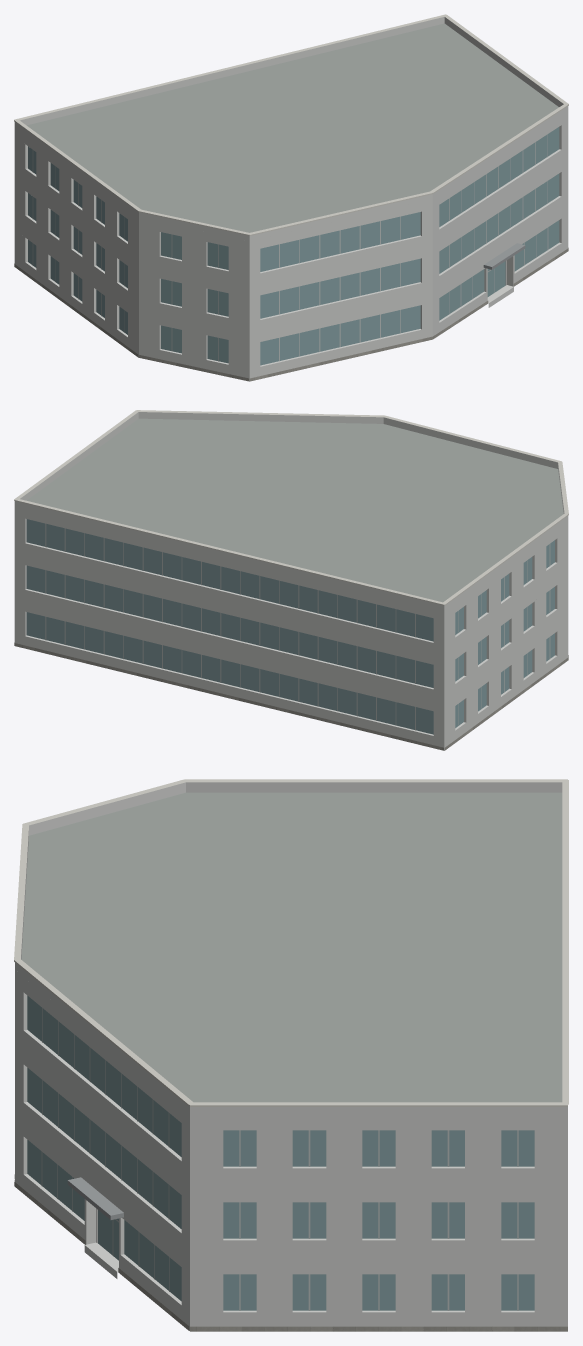
3 views of the same model, one above another, from view 1: azimuth 30°, elevation 25°; view 2: azimuth 150°, elevation 25°; view 3: azimuth 270°, elevation 25° (orthographic). The views are drawn at different scales.
Parts seen in each view (by area): view 1: e5__roof, e5__wall, e5__glass, e5__parapet, e5__trim, e5__frame, e5__base; view 2: e5__roof, e5__wall, e5__glass, e5__parapet, e5__trim, e5__frame, e5__base; view 3: e5__roof, e5__wall, e5__glass, e5__parapet, e5__trim, e5__base, e5__frame, e5__canopy.
Boxes of the visible parts, box(x1,y1,x2,y2) form: e5__roof: box(27, 23, 558, 381); e5__wall: box(14, 111, 568, 381); e5__glass: box(28, 127, 559, 365); e5__parapet: box(14, 17, 568, 241); e5__trim: box(14, 14, 568, 235); e5__frame: box(32, 134, 548, 361); e5__base: box(14, 248, 568, 381); e5__roof: box(27, 418, 563, 750); e5__wall: box(14, 506, 568, 750); e5__glass: box(26, 519, 554, 734); e5__parapet: box(14, 412, 568, 610); e5__trim: box(14, 410, 568, 605); e5__frame: box(45, 523, 550, 730); e5__base: box(14, 642, 568, 750); e5__roof: box(21, 792, 562, 1102); e5__wall: box(15, 970, 567, 1330); e5__glass: box(27, 995, 534, 1310); e5__parapet: box(15, 782, 567, 1114); e5__trim: box(14, 779, 568, 1106); e5__base: box(14, 1174, 567, 1331); e5__frame: box(41, 1008, 518, 1310); e5__canopy: box(67, 1177, 123, 1219).
Size of the model in its own units: 40.73 by 13.6 by 29.32.
10 materials, 1 textured.
